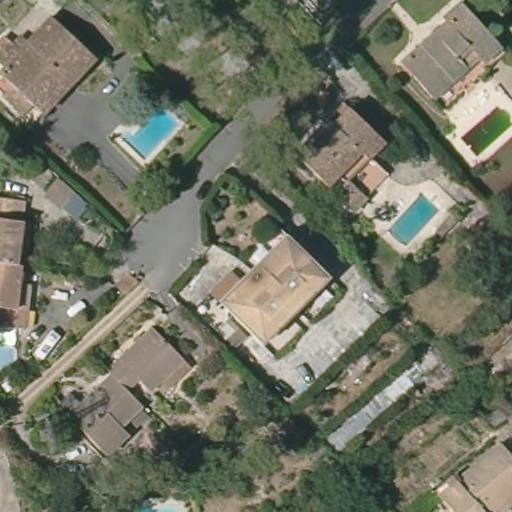pool: (118, 104, 184, 161), (385, 190, 441, 245)
